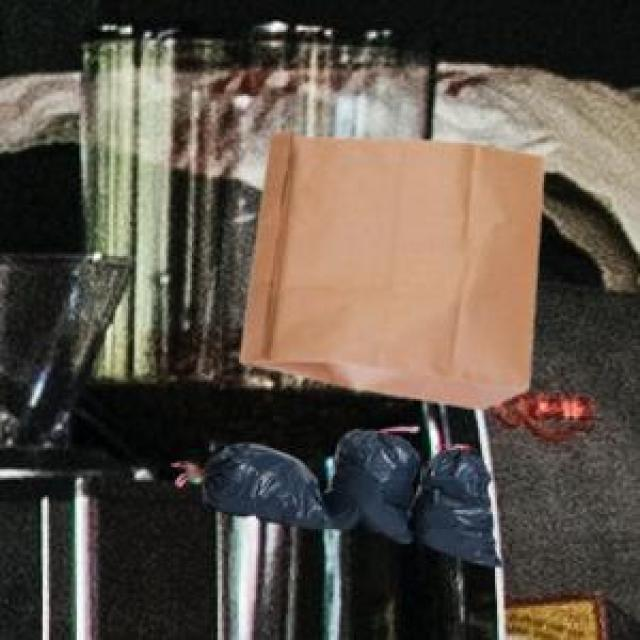miscellaneous trash: (198, 422, 499, 563)
paper: (237, 126, 540, 405)
